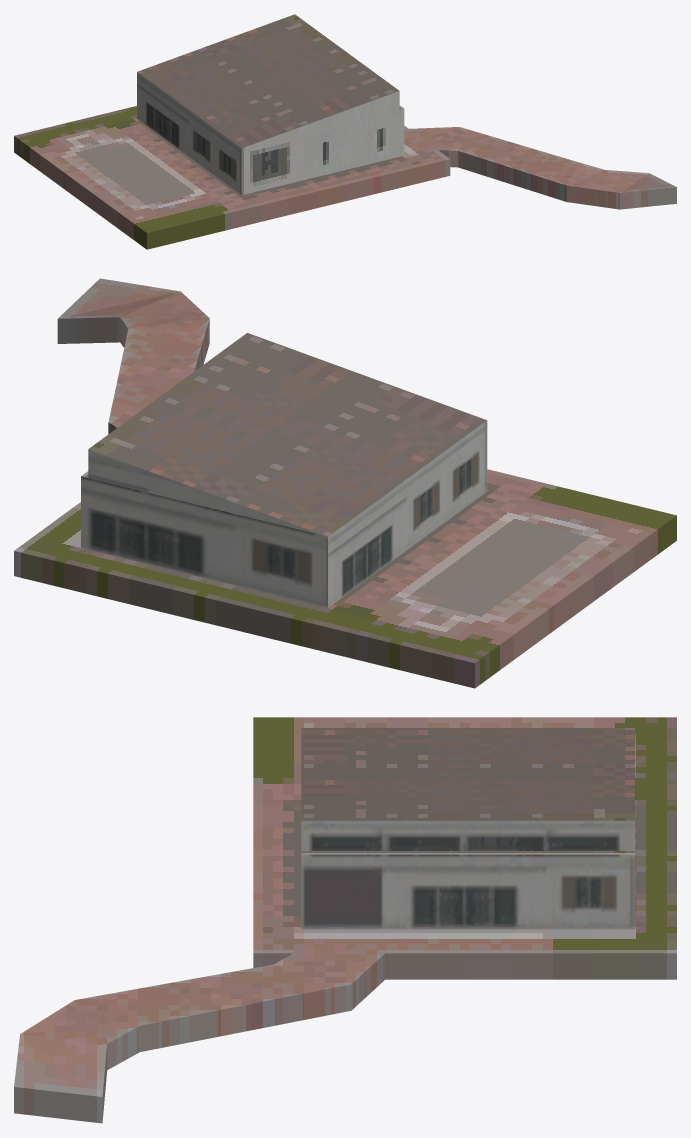
Rendered from lodboxtmp17.obj.
3 renders of one model, top to bottom at view 1: azimuth 30°, elevation 25°; view 2: azimuth 150°, elevation 25°; view 3: azimuth 270°, elevation 25°, orthographic. The views are drawn at different scales.
Parts seen in each view (by area): view 1: LODboxtmp17; view 2: LODboxtmp17; view 3: LODboxtmp17.
Part boxes in pixels (x1,y1,x2,y2): LODboxtmp17: [14, 14, 676, 249]; LODboxtmp17: [14, 278, 676, 688]; LODboxtmp17: [14, 717, 676, 1123].
Size of the model in its own units: 51.85 by 10.76 by 41.08.
Materials: 4 (4 with a texture image).
